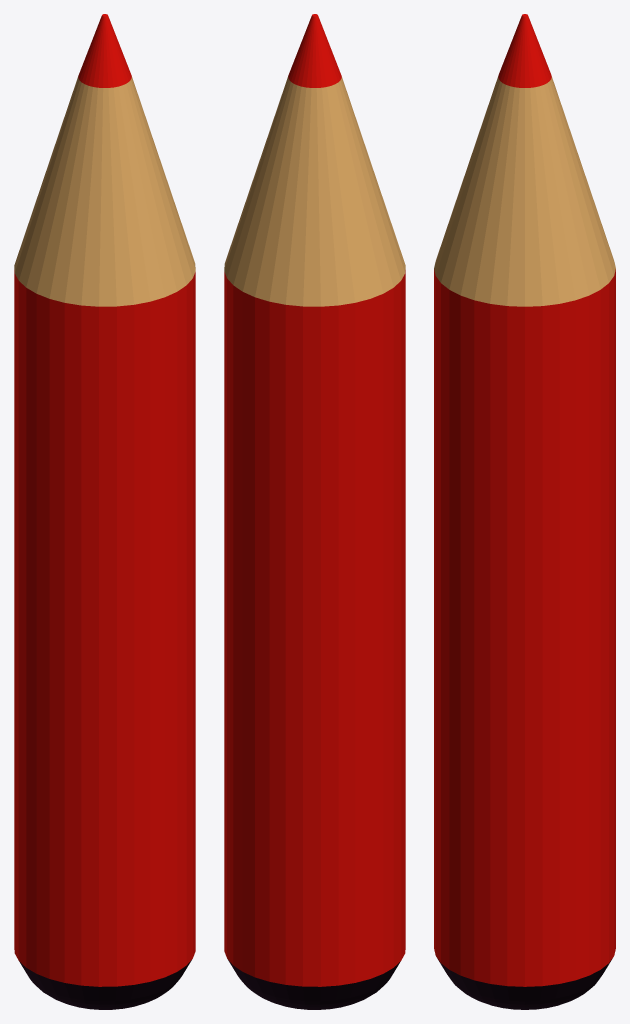
3 renders of one model, left to right at view 1: azimuth 30°, elevation 25°; view 2: azimuth 150°, elevation 25°; view 3: azimuth 270°, elevation 25°, orthographic.
Visible parts, largest first — view 1: Cylinder; view 2: Cylinder; view 3: Cylinder.
Boxes of the visible parts, x1,y1,x2,y2 form: Cylinder: (14,14,195,1009); Cylinder: (224,14,405,1009); Cylinder: (434,14,615,1009).
Size of the model in its own units: 200 by 1182 by 200.
